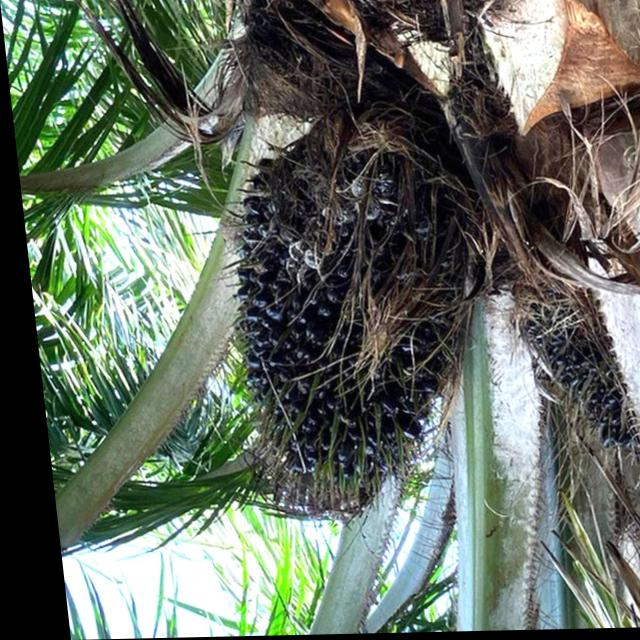unripe: (214, 138, 489, 494)
